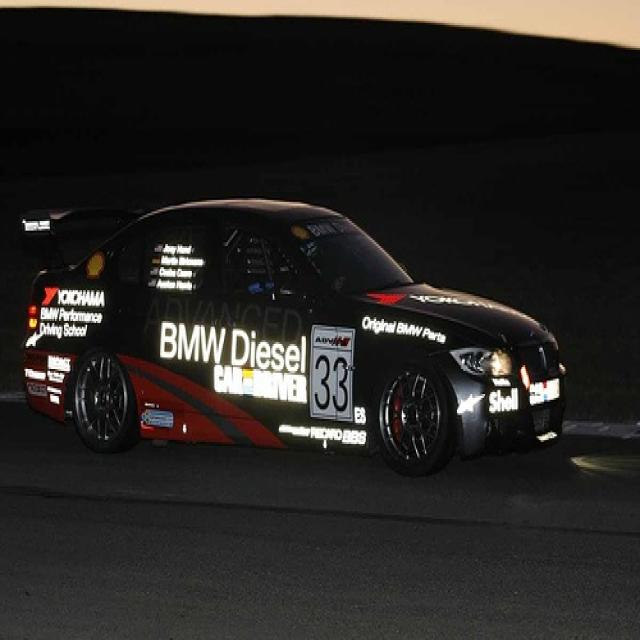car: (18, 196, 567, 475)
